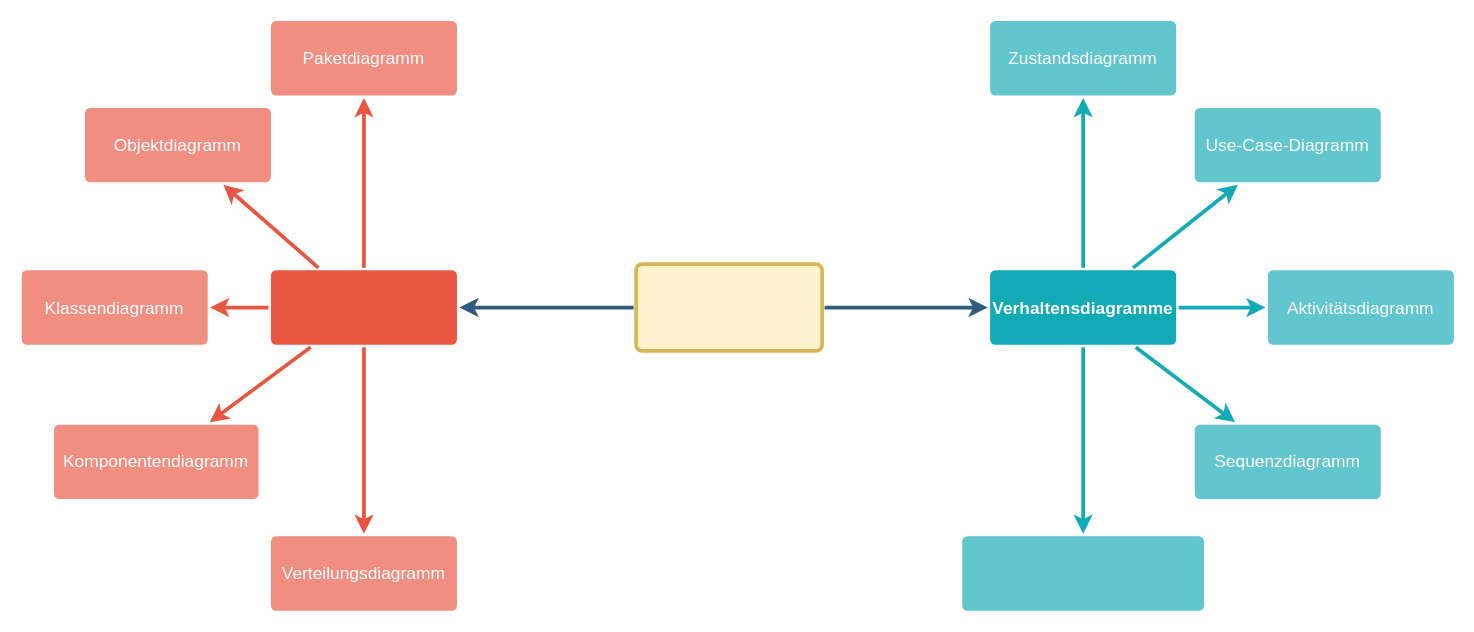
This 1474x632 diagram has some shape labels left out. Each missing label, with the centre of its shape:
Kommunikationsdiagramm: (x=1082, y=573)
Strukturdiagramme: (x=363, y=307)
UML: (x=728, y=307)
